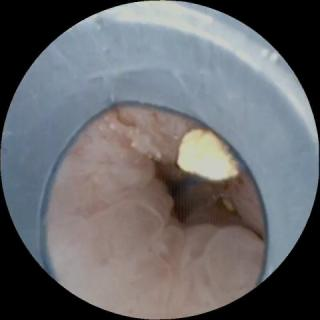stone: (177, 128, 238, 178)
tissue: (51, 110, 260, 314)
